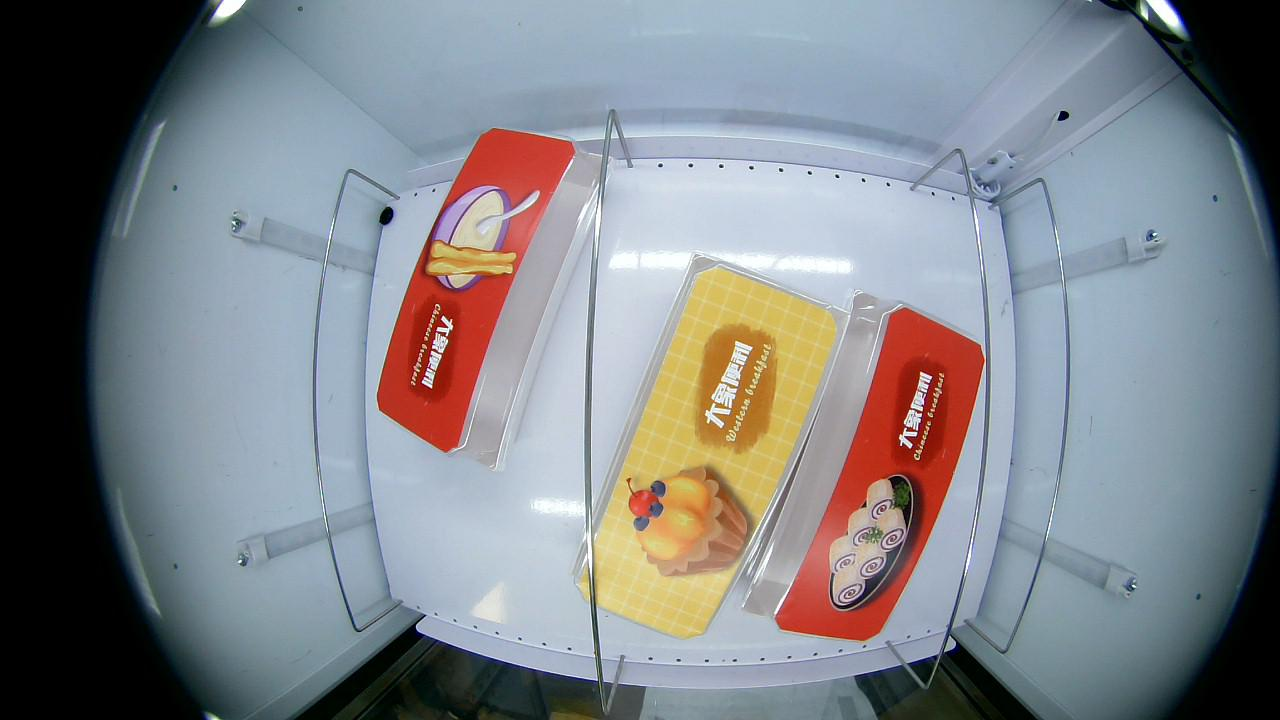goods: (822, 465, 931, 613), (418, 181, 546, 299), (617, 466, 745, 582)
